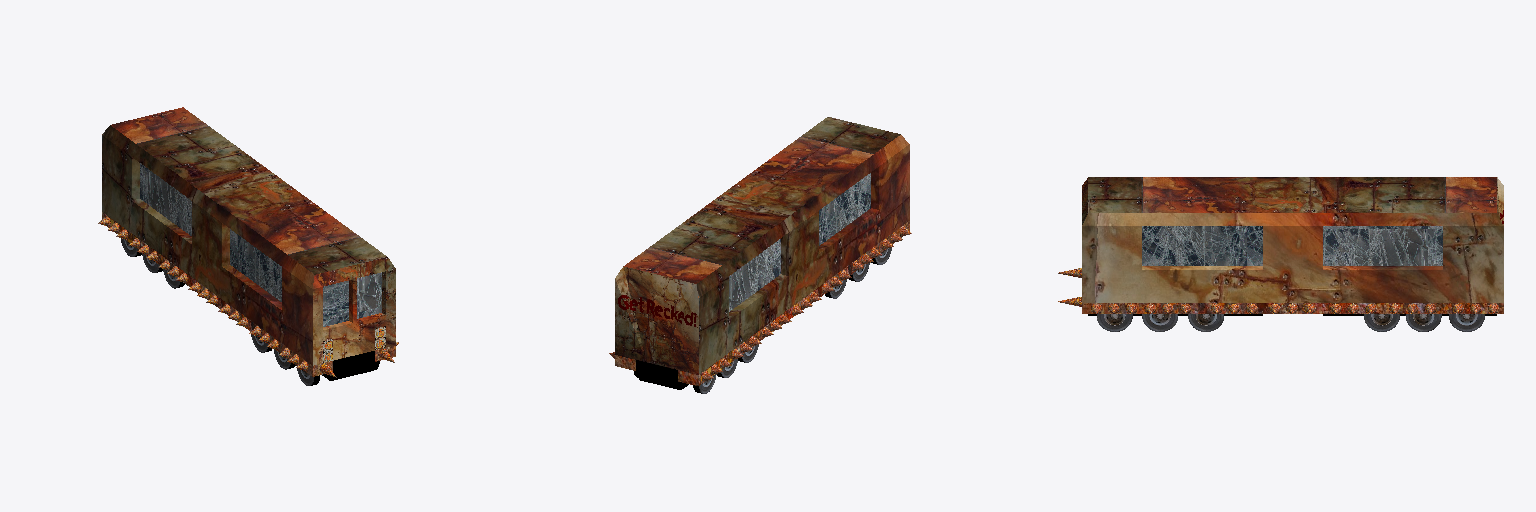
The picture shows the model from 3 angles: view 1: azimuth 30°, elevation 25°; view 2: azimuth 150°, elevation 25°; view 3: azimuth 270°, elevation 25°; orthographic projection.
Parts seen in each view (by area): view 1: Cube; view 2: Cube; view 3: Cube.
Part boxes in pixels (x1,y1,x2,y2): Cube: (98,107,398,385); Cube: (609,117,911,393); Cube: (1058,177,1503,331).
Bounding box in the file's own units: 2.5 × 2.77 × 9.28.
Materials: 8 (6 with a texture image).